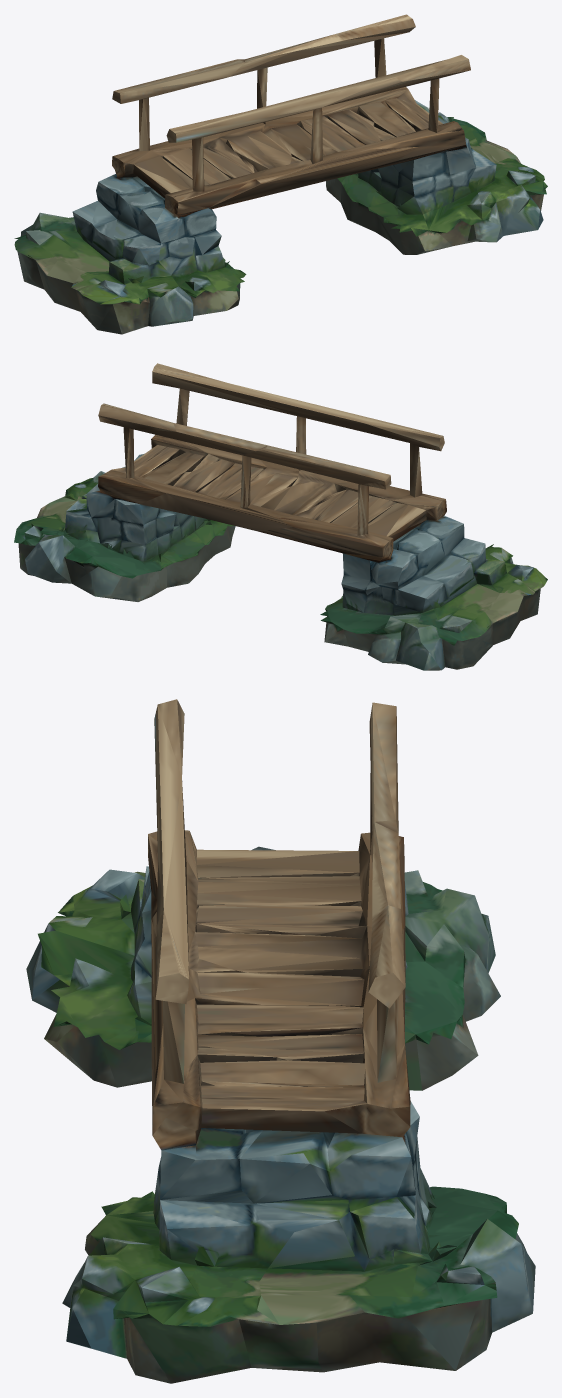
3 views of the same model, one above another, from view 1: azimuth 30°, elevation 25°; view 2: azimuth 150°, elevation 25°; view 3: azimuth 270°, elevation 25° (orthographic). The views are drawn at different scales.
Visible parts, largest first — view 1: wooden_footbridge; view 2: wooden_footbridge; view 3: wooden_footbridge.
Boxes of the visible parts, <box> form: wooden_footbridge: <box>14,14,547,334</box>; wooden_footbridge: <box>14,363,547,670</box>; wooden_footbridge: <box>26,699,535,1383</box>.
Size of the model in its own units: 0.9817 by 0.3474 by 0.4662.
1 material, 1 textured.
